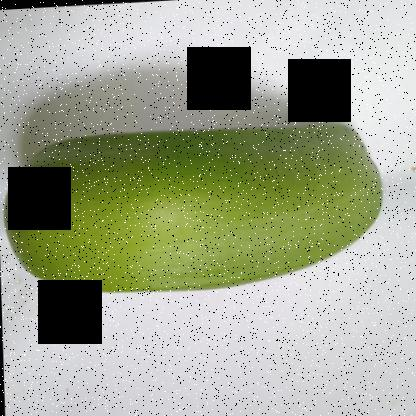freshunripe: (2, 108, 398, 302)
